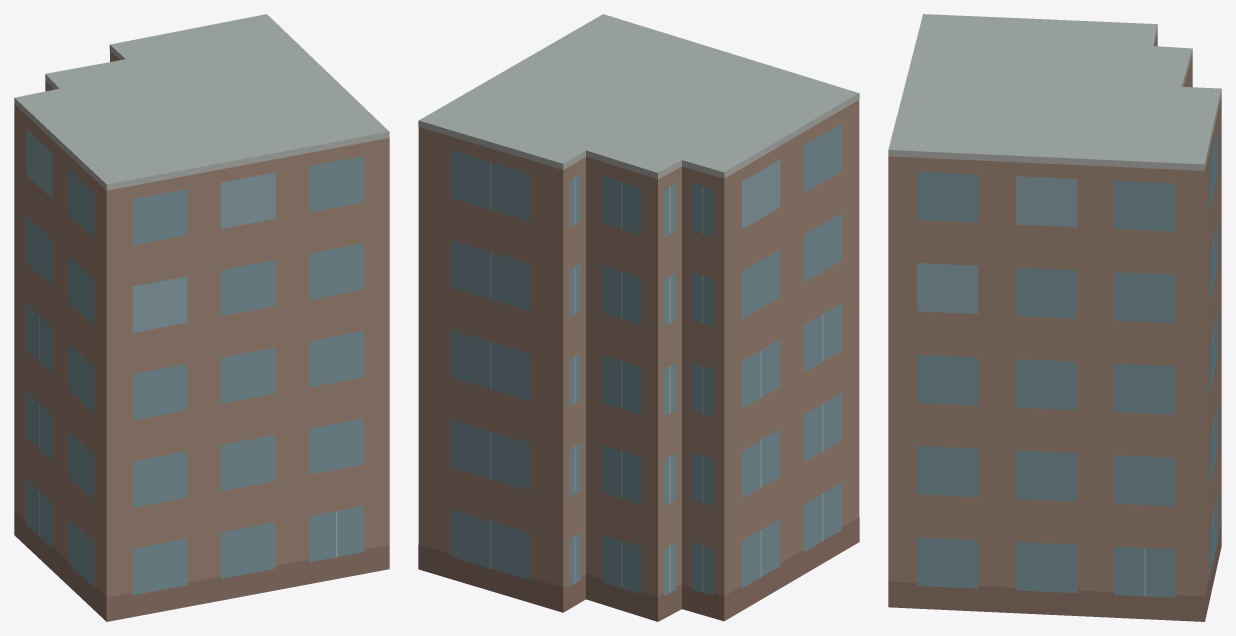
The model's file is survey-upis-32582837.glb.
The picture shows the model from 3 angles, left to right: view 1: azimuth 30°, elevation 25°; view 2: azimuth 150°, elevation 25°; view 3: azimuth 270°, elevation 25°; orthographic projection. The views are drawn at different scales.
Visible parts, largest first — view 1: survey-upis-32582837.tmp; view 2: survey-upis-32582837.tmp; view 3: survey-upis-32582837.tmp.
Part boxes in pixels (x1,y1,x2,y2): survey-upis-32582837.tmp: (14,14,389,621); survey-upis-32582837.tmp: (418,14,859,621); survey-upis-32582837.tmp: (888,14,1221,621).
Size of the model in its own units: 12.22 by 17.3 by 11.44.
